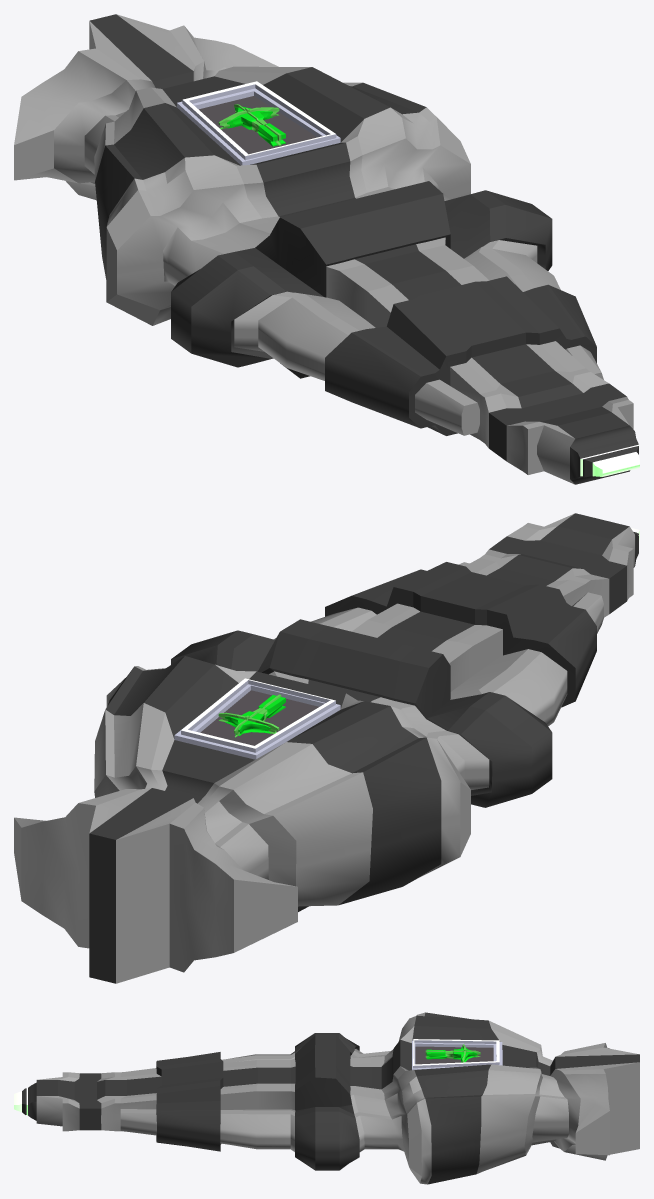
The model's file is Medpack.fbx.
The picture shows the model from 3 angles, top to bottom: view 1: azimuth 30°, elevation 25°; view 2: azimuth 150°, elevation 25°; view 3: azimuth 270°, elevation 25°; orthographic projection. The views are drawn at different scales.
Visible parts, largest first — view 1: Cube.001, Cube.002; view 2: Cube.001, Cube.002; view 3: Cube.001, Cube.002.
Boxes of the visible parts, left/top/right/bottom form: Cube.001: left=14, top=14, right=639, bottom=484; Cube.002: left=218, top=104, right=285, bottom=146; Cube.001: left=14, top=513, right=639, bottom=983; Cube.002: left=218, top=694, right=285, bottom=737; Cube.001: left=14, top=1012, right=639, bottom=1184; Cube.002: left=425, top=1044, right=480, bottom=1062.
Bounding box in the file's own units: 2111 × 1045 × 5251.
